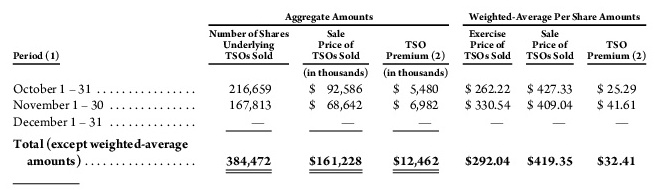table: (0, 0, 658, 190)
